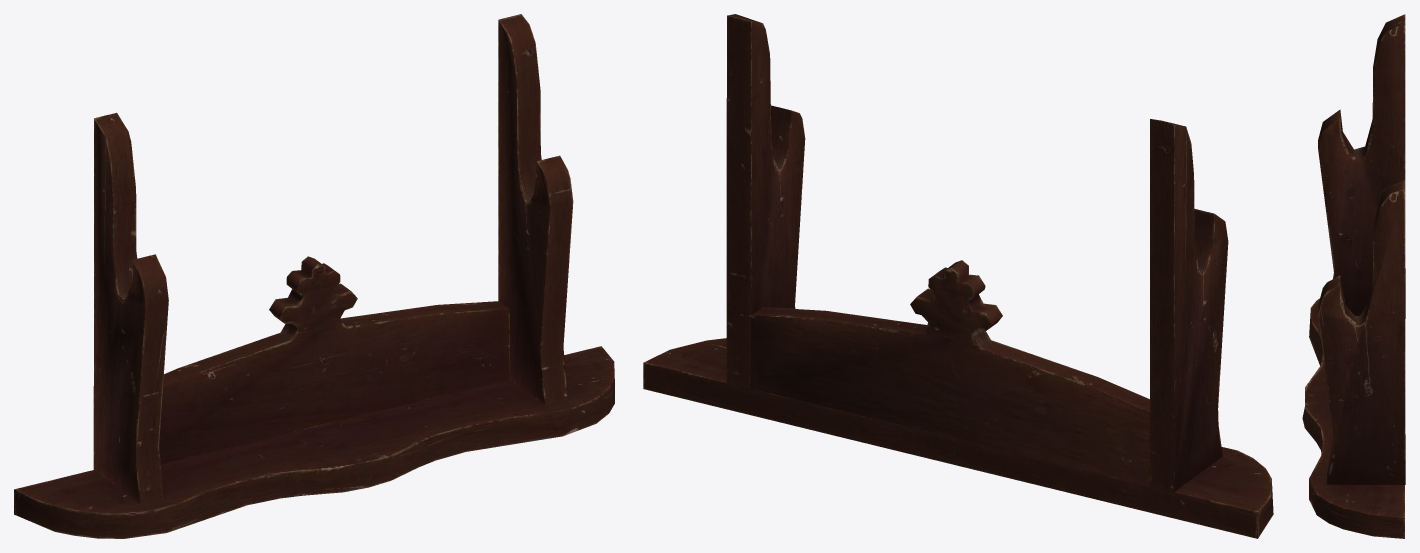
Rendered from katana_stand_01.glb.
3 renders of one model, left to right at view 1: azimuth 30°, elevation 25°; view 2: azimuth 150°, elevation 25°; view 3: azimuth 270°, elevation 25°, orthographic. The views are drawn at different scales.
Parts seen in each view (by area): view 1: katana_stand_01; view 2: katana_stand_01; view 3: katana_stand_01.
Boxes of the visible parts, x1,y1,x2,y2 form: katana_stand_01: (14, 14, 614, 538); katana_stand_01: (643, 14, 1273, 538); katana_stand_01: (1302, 14, 1405, 538).
Bounding box in the file's own units: 0.2958 × 0.1816 × 0.0534.
1 material, 1 textured.
